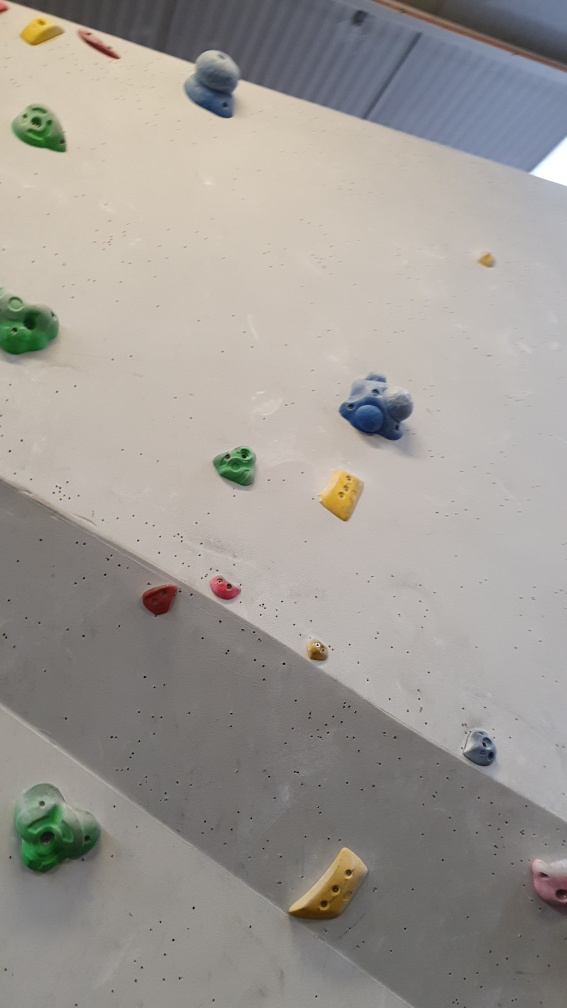Crimp: (286, 843, 372, 930), (314, 459, 373, 526)
Jug: (16, 778, 103, 880), (1, 281, 63, 370), (13, 97, 78, 163), (211, 443, 271, 496)
Pinch: (19, 7, 69, 49)
Sloper: (341, 364, 419, 448), (175, 41, 246, 125)
